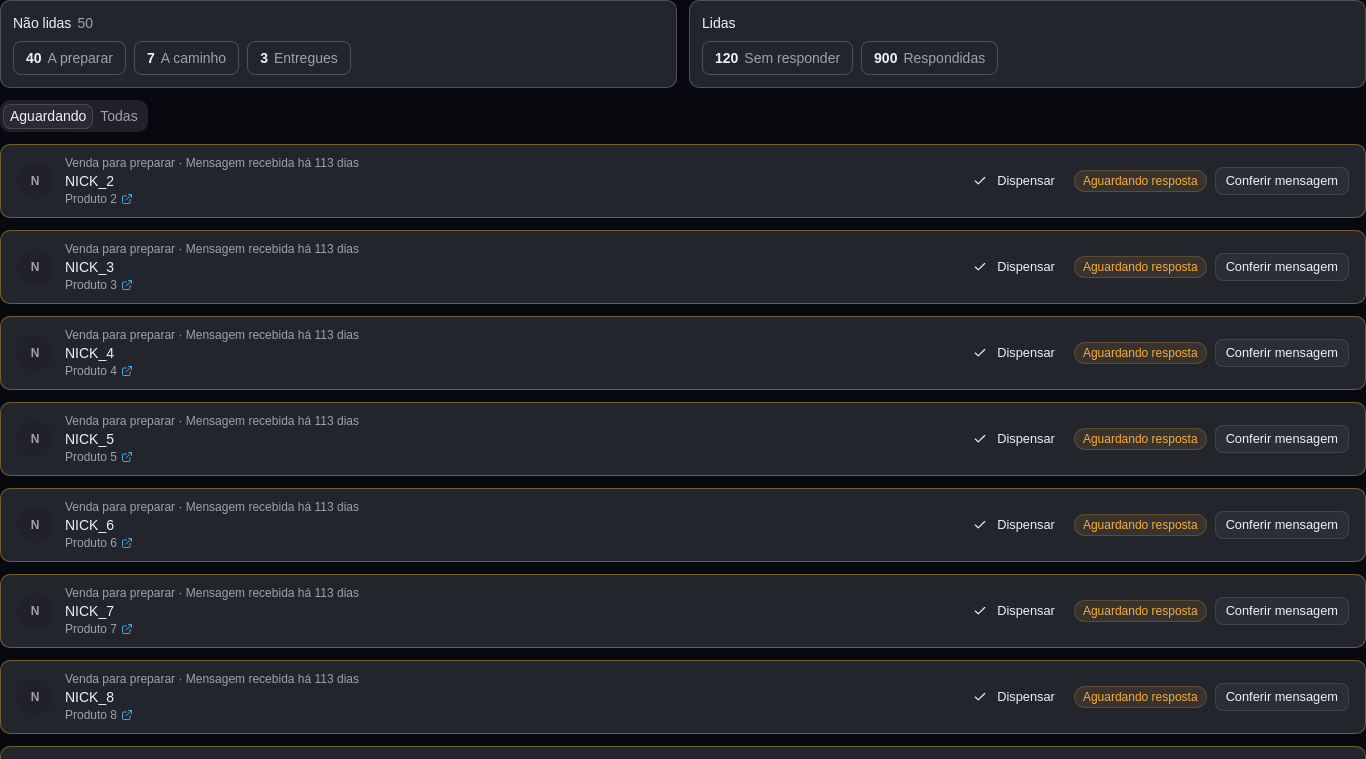
Test: AbaMensagens › aba Todas com mais de 20 conversas pagina, e a página 2 mostra outras conversas
The width and height of the screenshot is (1366, 759).
Click the tab "Todas": click(119, 116) [93,104,145,128]
(page scrolled)
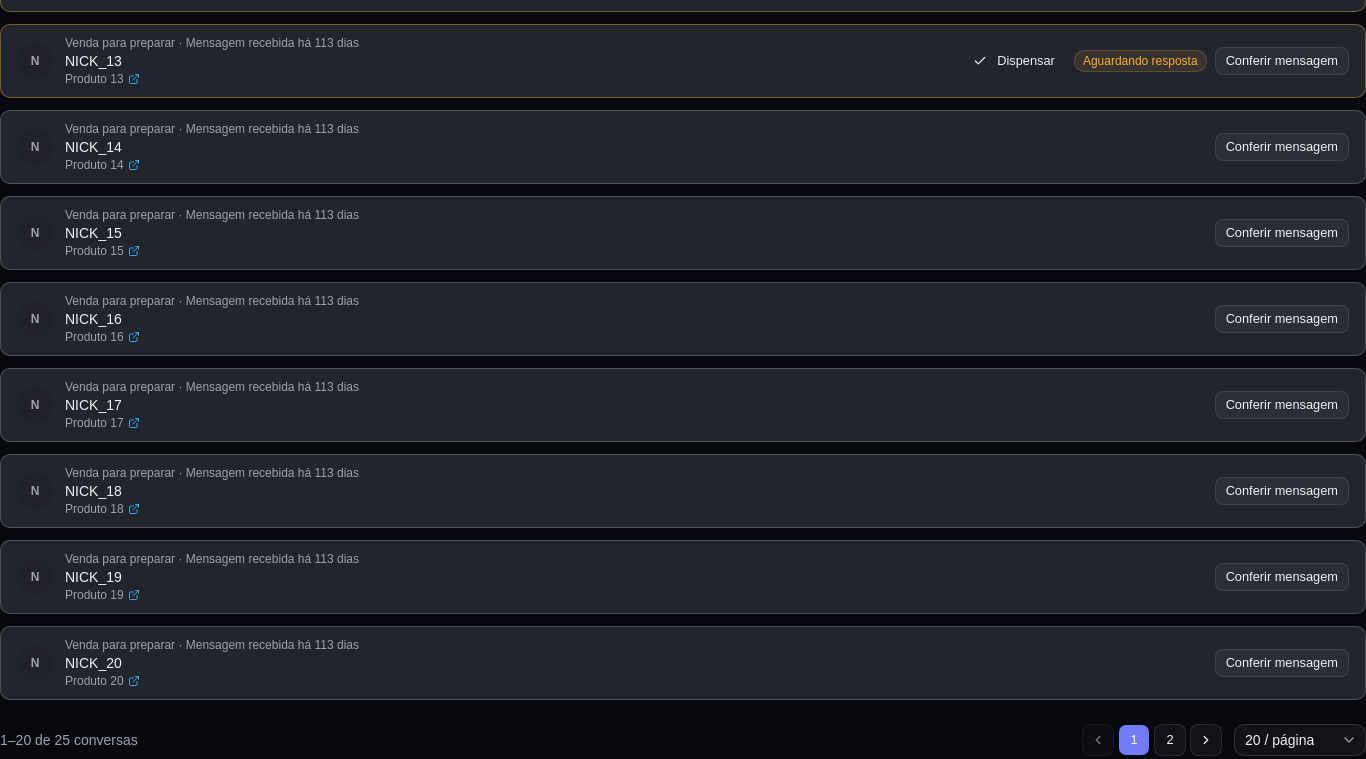
expect the text "Produto 25" is not shown: met
expect the text "Produto 20" is shown: met, box [65,673,124,689]
Click the button named "Página 2": click(1170, 740) [1154,724,1186,756]
(page scrolled)
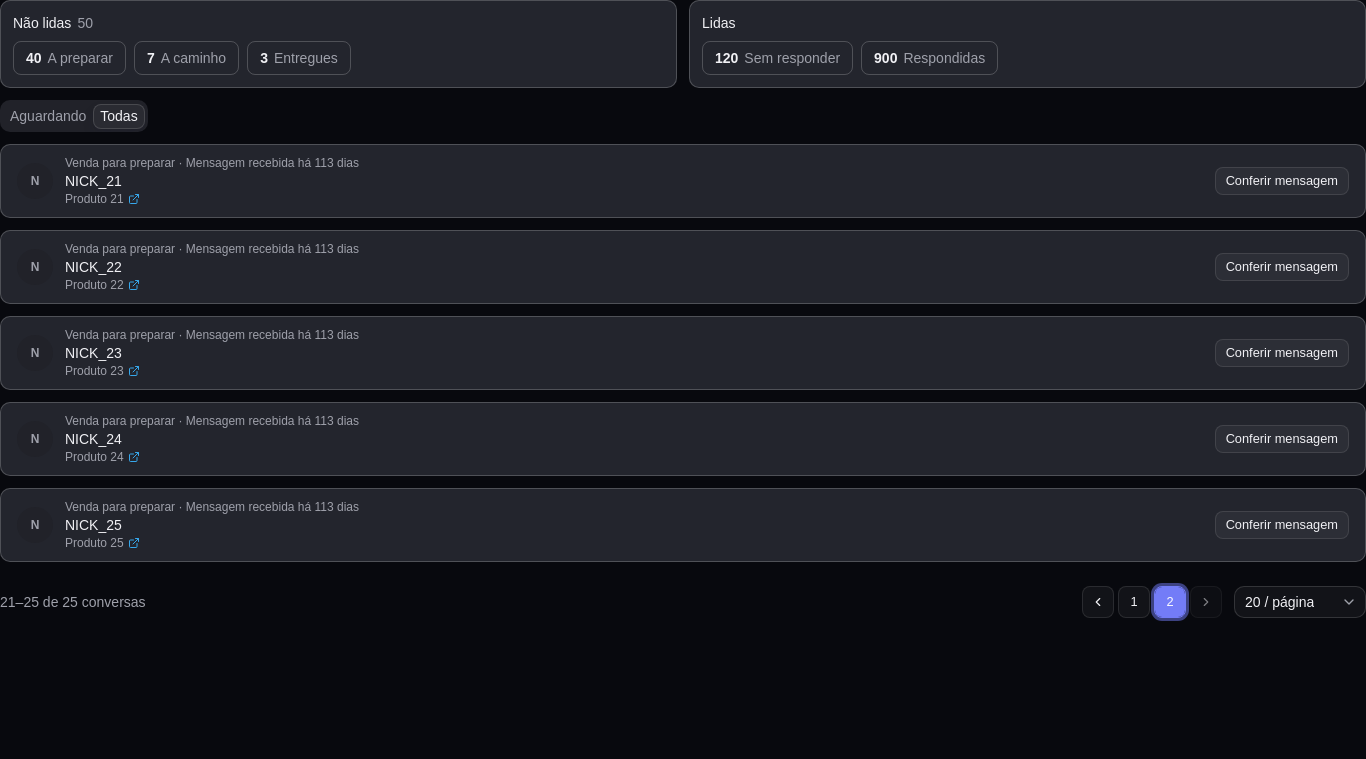
expect the text "Produto 25" is shown: met, box [65,535,124,551]
expect the text "Produto 20" is gone: met
